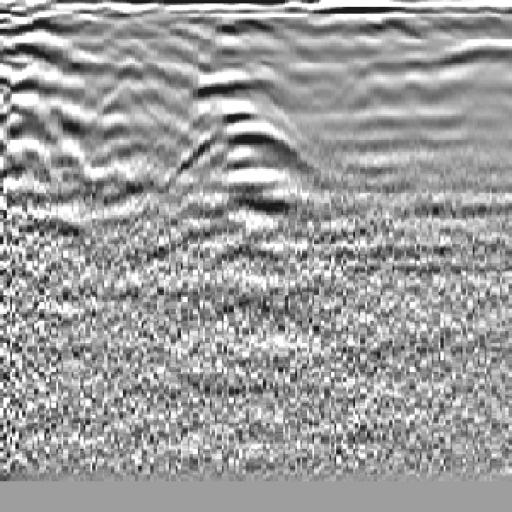metalic: (158, 39, 340, 273)
